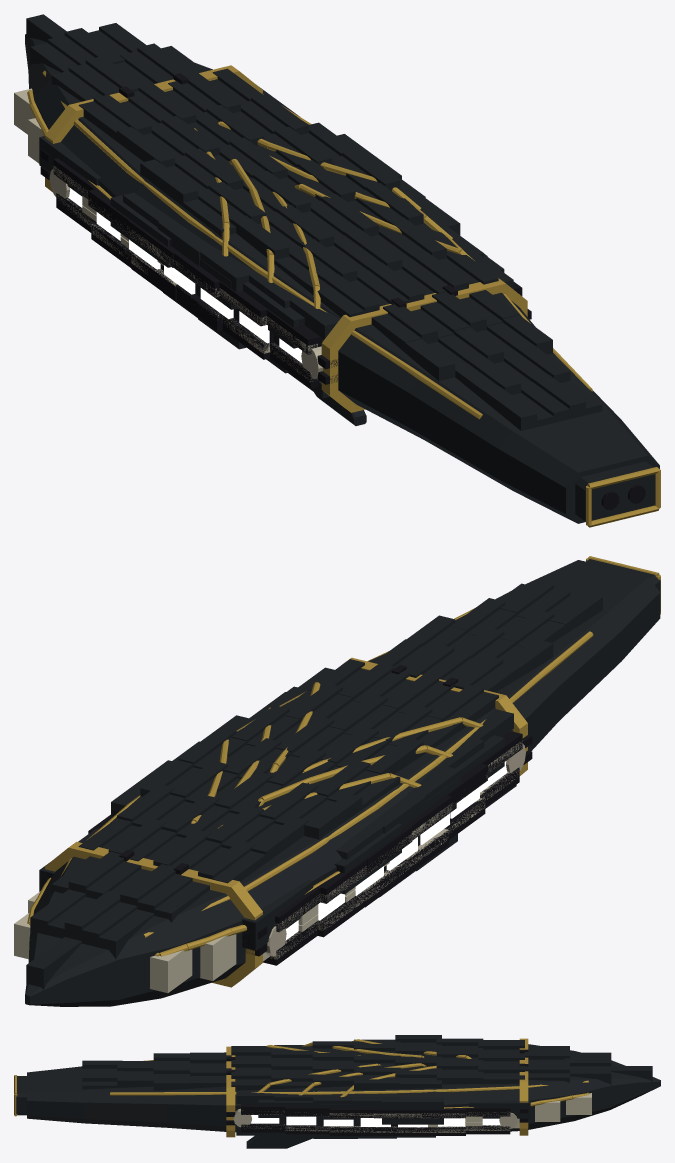
3 views of the same model, one above another, from view 1: azimuth 30°, elevation 25°; view 2: azimuth 150°, elevation 25°; view 3: azimuth 270°, elevation 25° (orthographic). The views are drawn at different scales.
Parts seen in each view (by area): view 1: RIMWARD_HULL, RIMWARD_EMISSIVE; view 2: RIMWARD_HULL, RIMWARD_EMISSIVE; view 3: RIMWARD_HULL, RIMWARD_EMISSIVE.
Part boxes in pixels (x1=…): RIMWARD_HULL: x1=14, y1=14, x2=660, y2=527; RIMWARD_EMISSIVE: x1=68, y1=188, x2=302, y2=363; RIMWARD_HULL: x1=14, y1=556, x2=660, y2=1006; RIMWARD_EMISSIVE: x1=285, y1=761, x2=507, y2=940; RIMWARD_HULL: x1=14, y1=1035, x2=660, y2=1148; RIMWARD_EMISSIVE: x1=251, y1=1115, x2=500, y2=1127.
Bounding box in the file's own units: 1.69 × 0.9583 × 7.31.
